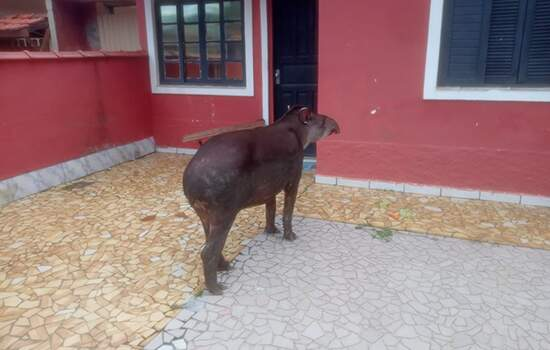Anta: (176, 99, 348, 301)
